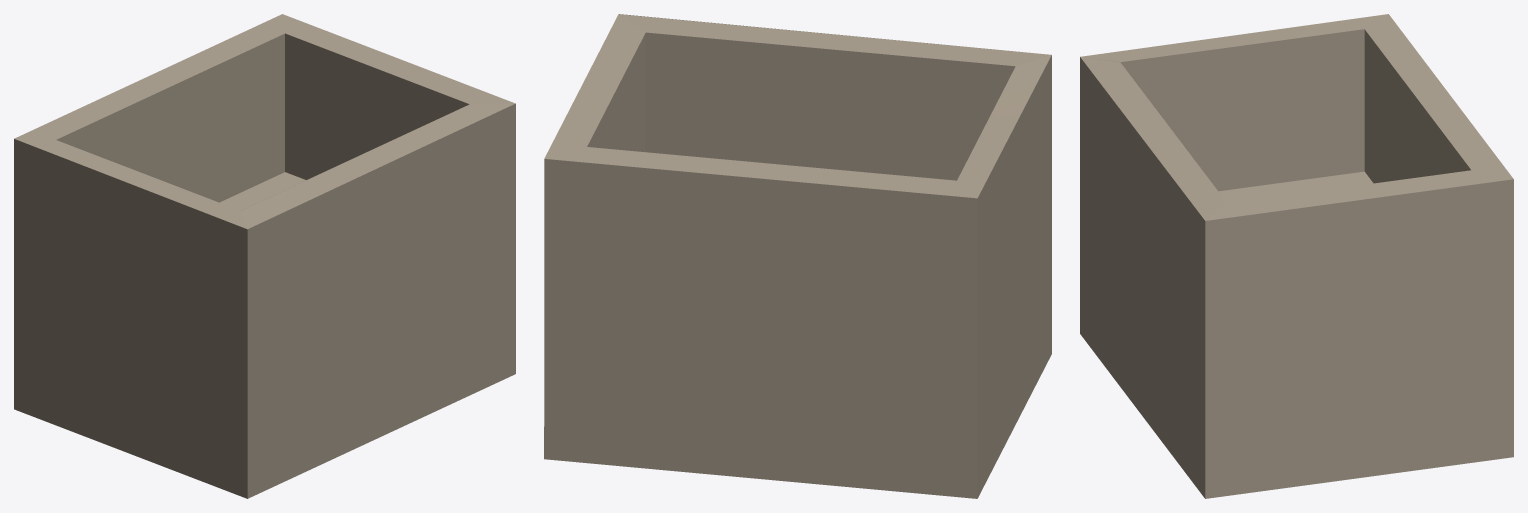
File: MSH_QuestObject_table_01.fbx
3 views of the same model, side by side, from view 1: azimuth 30°, elevation 25°; view 2: azimuth 150°, elevation 25°; view 3: azimuth 270°, elevation 25° (orthographic). The views are drawn at different scales.
Visible parts, largest first — view 1: MSH_QuestObject_table_01; view 2: MSH_QuestObject_table_01; view 3: MSH_QuestObject_table_01.
Part boxes in pixels (x1=…): MSH_QuestObject_table_01: x1=14, y1=14, x2=515, y2=498; MSH_QuestObject_table_01: x1=544, y1=14, x2=1051, y2=498; MSH_QuestObject_table_01: x1=1080, y1=14, x2=1513, y2=498.
Size of the model in its own units: 0.7391 by 0.4633 by 0.655.
